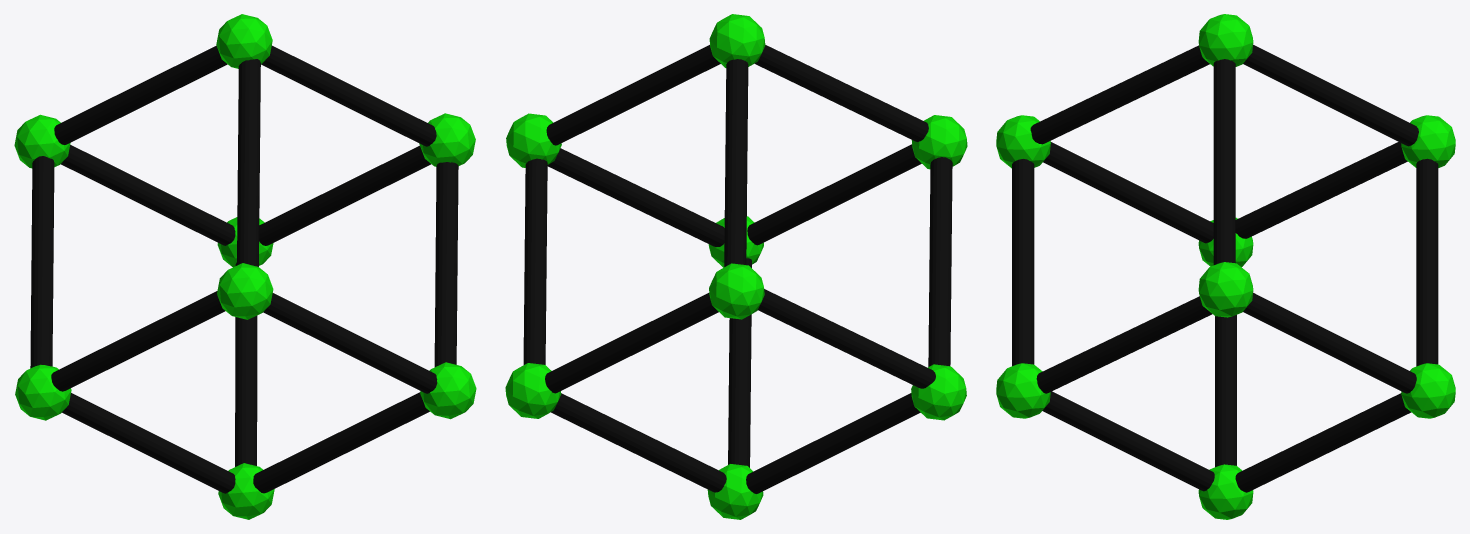
The model's file is SlicingEdgePart.fbx.
The picture shows the model from 3 angles, left to right: view 1: azimuth 30°, elevation 25°; view 2: azimuth 150°, elevation 25°; view 3: azimuth 270°, elevation 25°; orthographic projection.
Parts seen in each view (by area): view 1: SlicingEdgePart; view 2: SlicingEdgePart; view 3: SlicingEdgePart.
Boxes of the visible parts, box(x1,y1,x2,y2) form: SlicingEdgePart: box(14, 14, 476, 519); SlicingEdgePart: box(505, 14, 967, 519); SlicingEdgePart: box(996, 14, 1455, 519).
Bounding box in the file's own units: 767 × 810 × 674.
